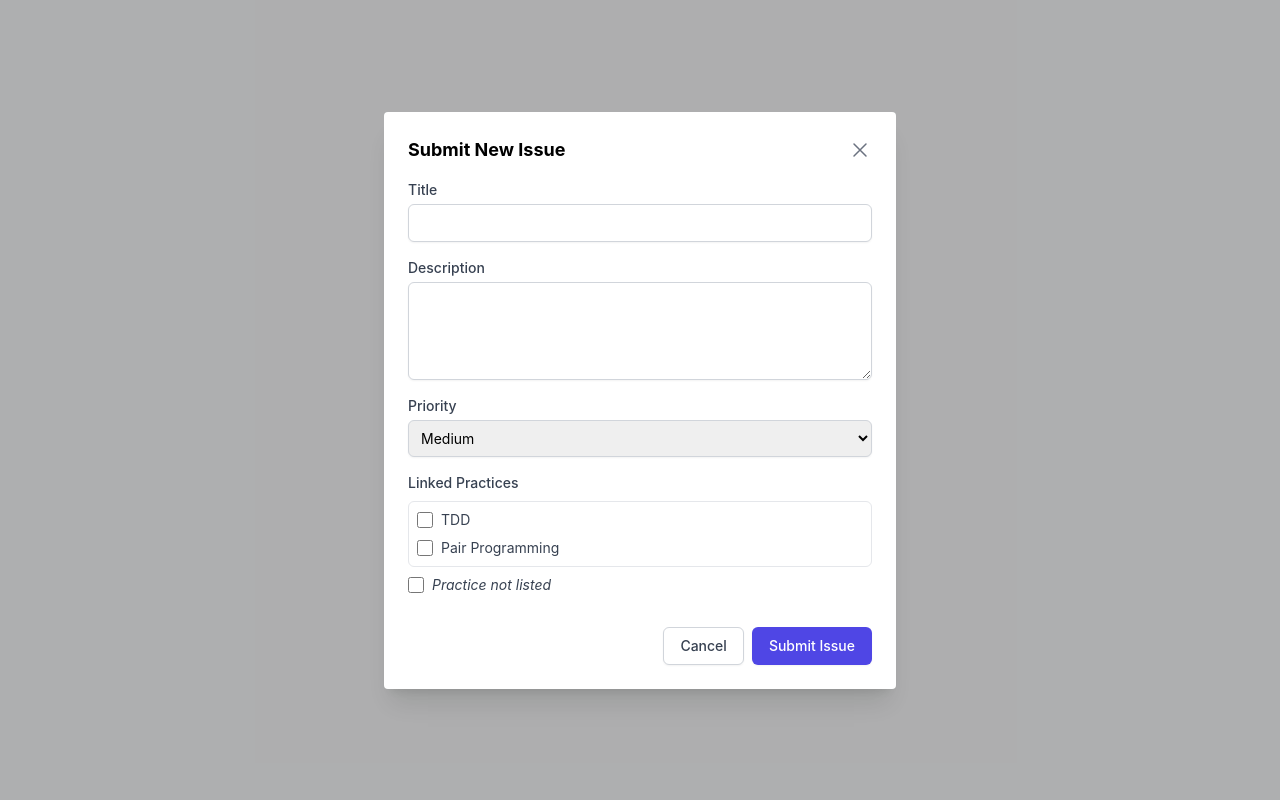
Scenario: IssueSubmissionModal › validates required fields
Step 1. Click the button "Submit Issue" → [812, 646], box [752,626,872,664]
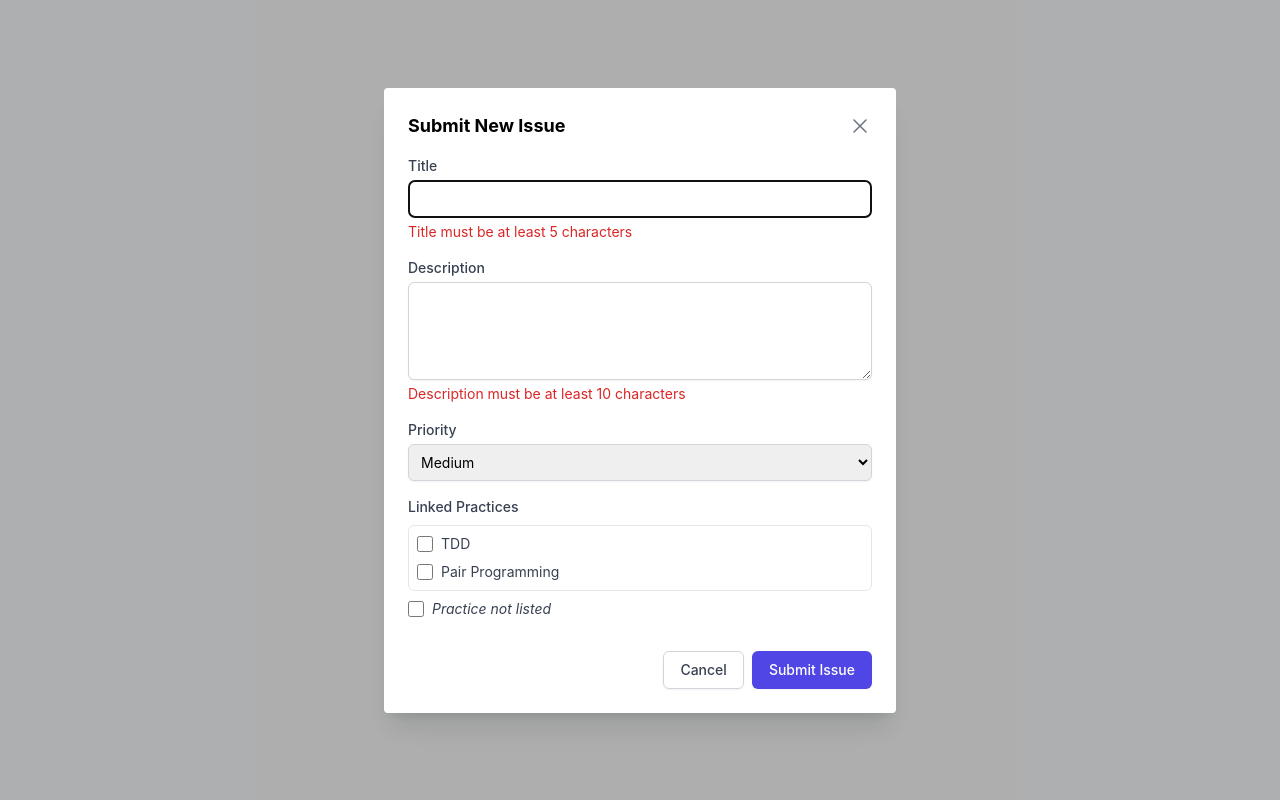
Result: the text "Title must be at least 5 characters" is shown at [408,222,632,240]
Result: the text "Description must be at least 10 characters" is shown at [408,384,686,402]
